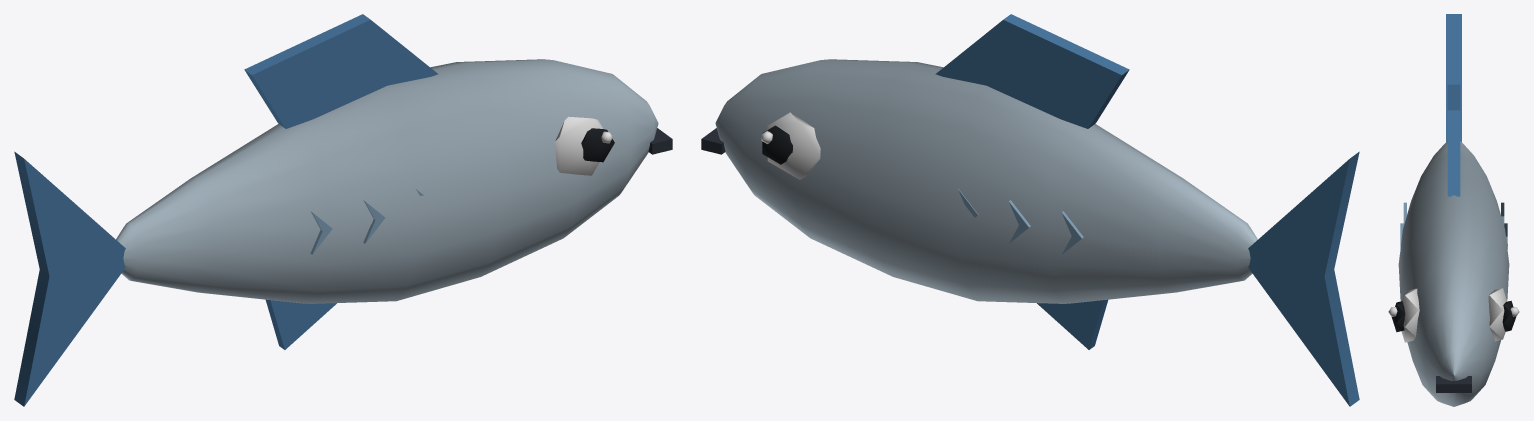
Rendered from fish.glb.
3 views of the same model, side by side, from view 1: azimuth 30°, elevation 25°; view 2: azimuth 150°, elevation 25°; view 3: azimuth 270°, elevation 25° (orthographic). The views are drawn at different scales.
Visible parts, largest first — view 1: pv3_fish; view 2: pv3_fish; view 3: pv3_fish.
Boxes of the visible parts, <box> form: pv3_fish: <box>14,14,672,406</box>; pv3_fish: <box>701,14,1359,406</box>; pv3_fish: <box>1388,14,1519,406</box>.
Bounding box in the file's own units: 0.379 × 0.175 × 0.081.
